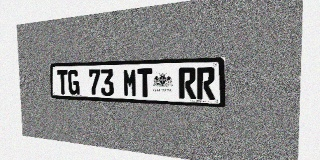3: (100, 69, 114, 96)
7: (88, 69, 101, 96)
G: (68, 70, 80, 95)
M: (123, 69, 137, 97)
R: (197, 67, 215, 100), (179, 67, 196, 99)
T: (137, 68, 153, 98), (57, 70, 68, 94)
